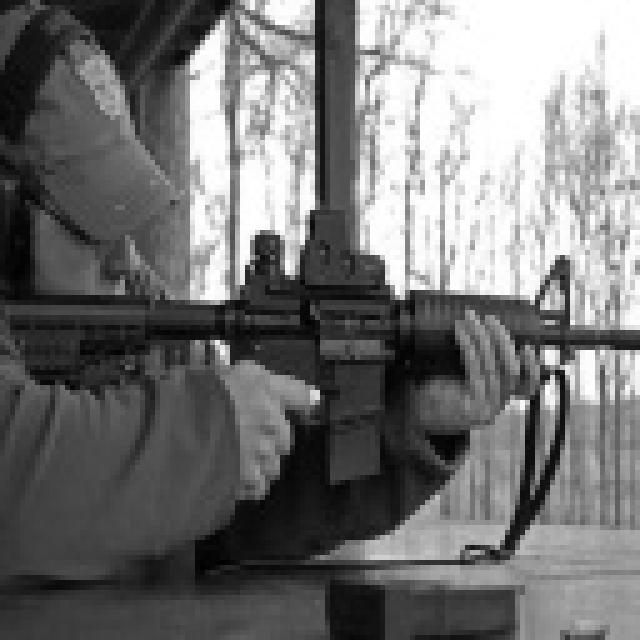Rifle: (0, 197, 640, 501)
